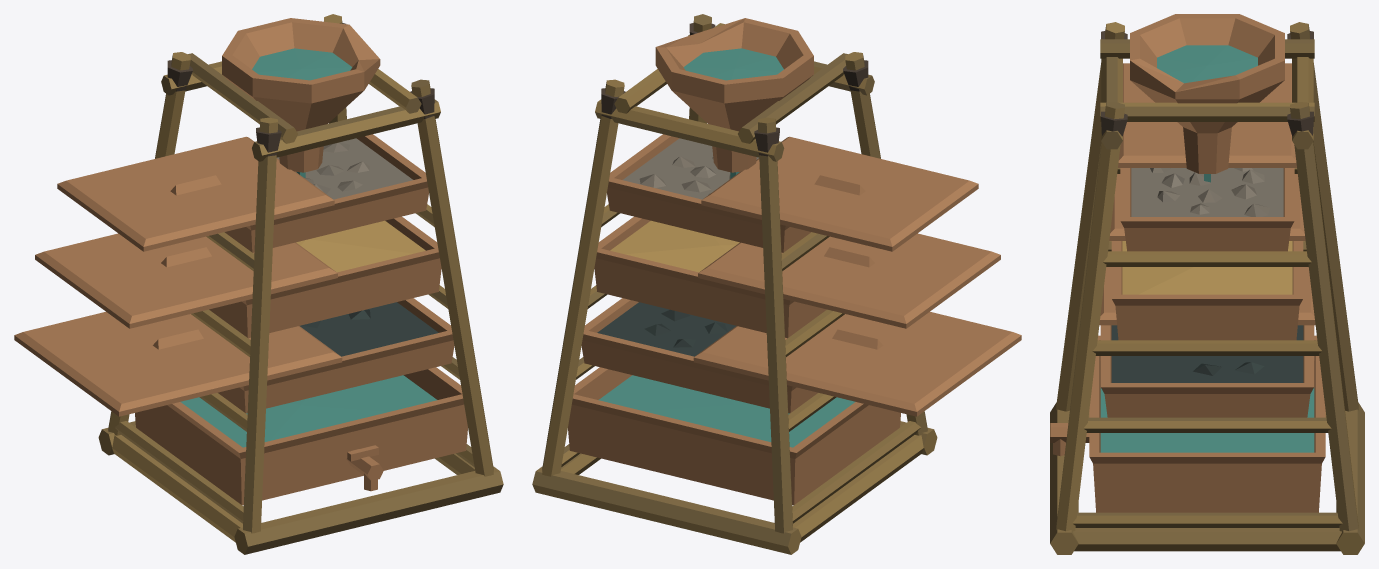
Rendered from gravity-water-filter-stack-4a54f5.glb.
The picture shows the model from 3 angles, left to right: view 1: azimuth 30°, elevation 25°; view 2: azimuth 150°, elevation 25°; view 3: azimuth 270°, elevation 25°; orthographic projection. The views are drawn at different scales.
Parts seen in each view (by area): view 1: frame, lid-charcoal-slab, lid-gravel-slab, lid-sand-slab, tray-sand-body, tray-charcoal-body, tray-gravel-body; view 2: frame, lid-charcoal-slab, lid-gravel-slab, lid-sand-slab, tray-sand-body, tray-charcoal-body, tray-gravel-body; view 3: frame, tray-gravel-body, tray-sand-body, tray-charcoal-body, lid-gravel-slab, lid-charcoal-slab, lid-sand-slab.
Boxes of the visible parts, <box> form: frame: <box>98,14,503,554</box>; lid-charcoal-slab: <box>14,312,342,416</box>; lid-gravel-slab: <box>57,136,334,251</box>; lid-sand-slab: <box>35,233,337,328</box>; tray-sand-body: <box>209,216,441,338</box>; tray-charcoal-body: <box>218,298,454,413</box>; tray-gravel-body: <box>224,134,428,252</box>; frame: <box>532,14,937,554</box>; lid-charcoal-slab: <box>693,312,1021,416</box>; lid-gravel-slab: <box>701,136,978,251</box>; lid-sand-slab: <box>698,233,1000,328</box>; tray-sand-body: <box>594,216,826,338</box>; tray-charcoal-body: <box>581,298,817,413</box>; tray-gravel-body: <box>607,134,811,252</box>; frame: <box>1050,14,1364,554</box>; tray-gravel-body: <box>1120,168,1294,251</box>; tray-sand-body: <box>1111,241,1303,340</box>; tray-charcoal-body: <box>1100,325,1314,417</box>; lid-gravel-slab: <box>1118,63,1296,167</box>; lid-charcoal-slab: <box>1099,267,1315,325</box>; lid-sand-slab: <box>1109,174,1305,240</box>.
Bounding box in the file's own units: 1.42 × 1.57 × 1.01.
